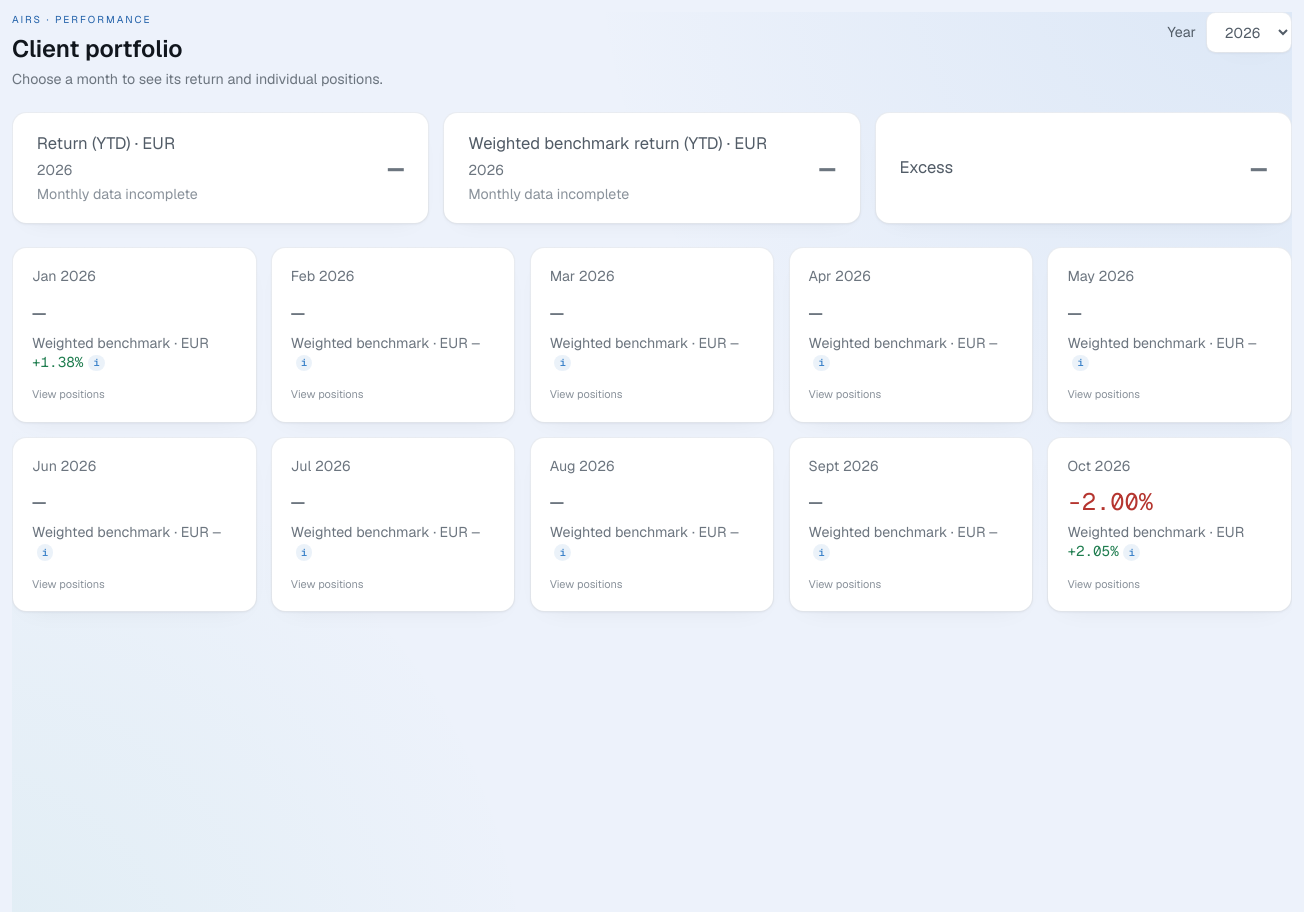
Test: AIRS monthly report › explains each tile using that month’s source prices without opening positions or fetching AIRS
The width and height of the screenshot is (1304, 912).
Click the 1st text "i": (96, 363) [88,355,105,371]
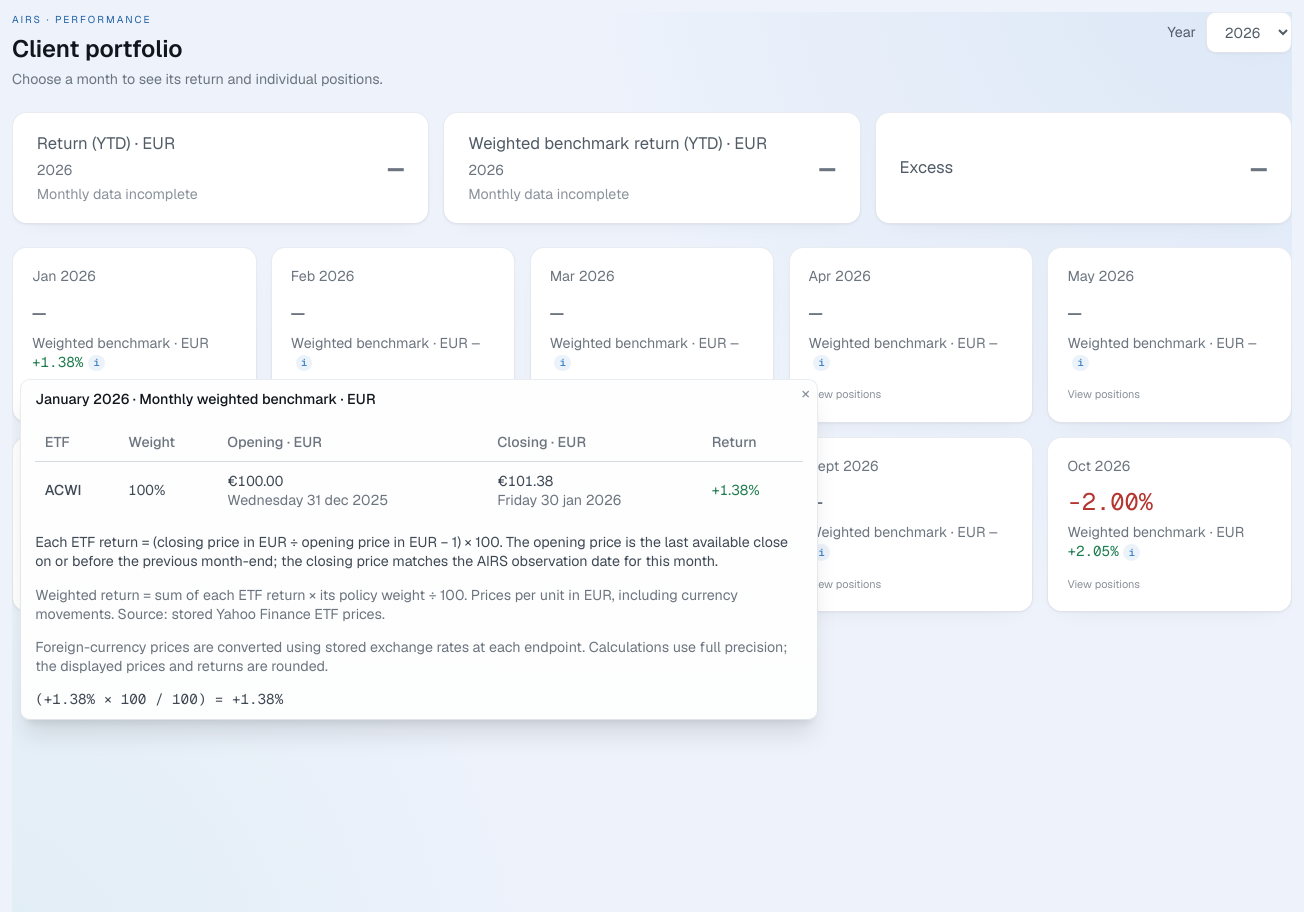
Result: the text "101.38" is shown at [497,472,553,490]
Result: the text "closing price in EUR ÷ opening price in EUR" is shown at [35,533,788,570]
Result: the text "(+1.38% × 100 / 100) = +1.38%" is shown at [35,690,283,708]
Click the 1st text "i": (96, 363) [88,355,105,371]
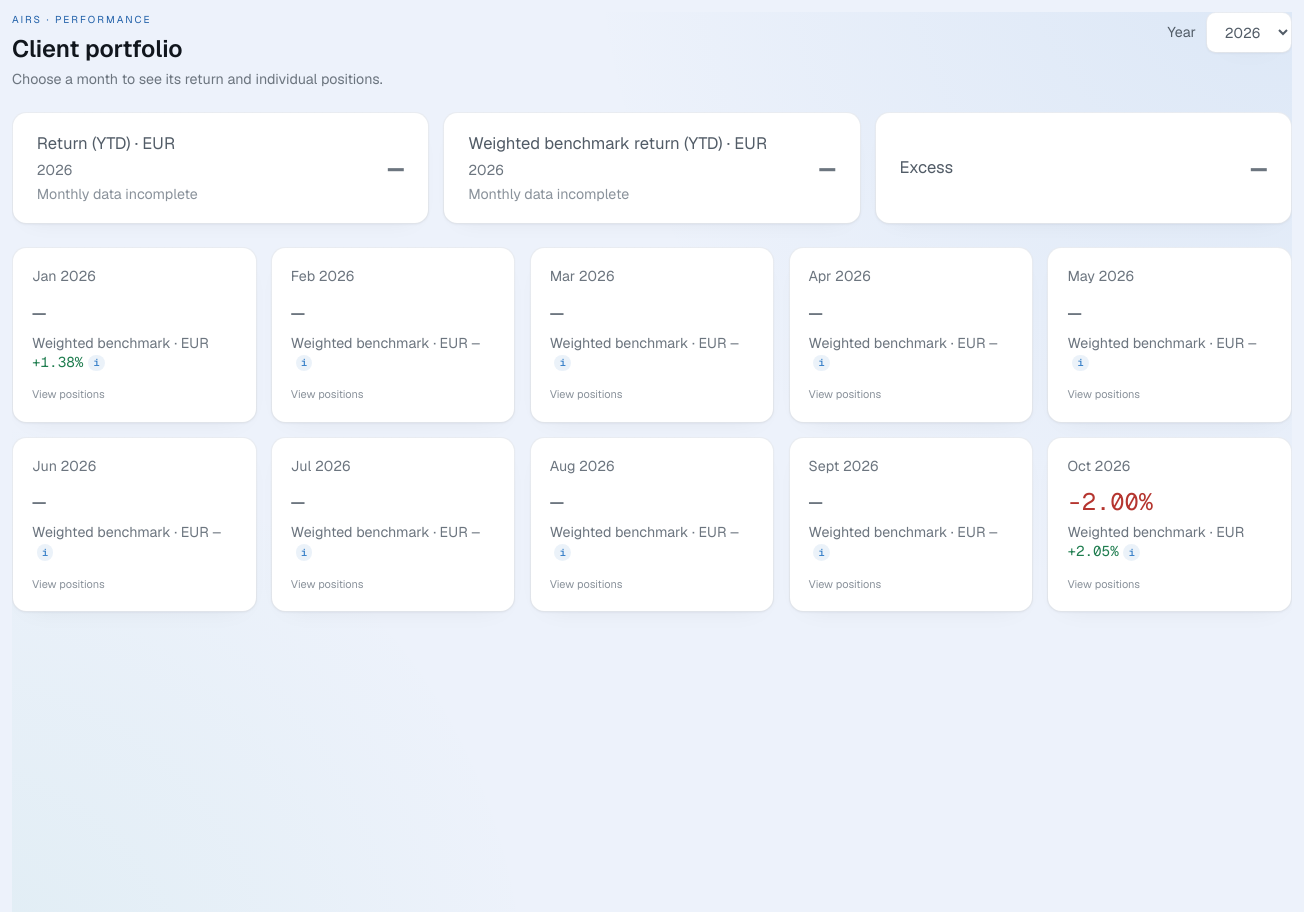
Click the 10th text "i": (1132, 553) [1124,544,1140,561]
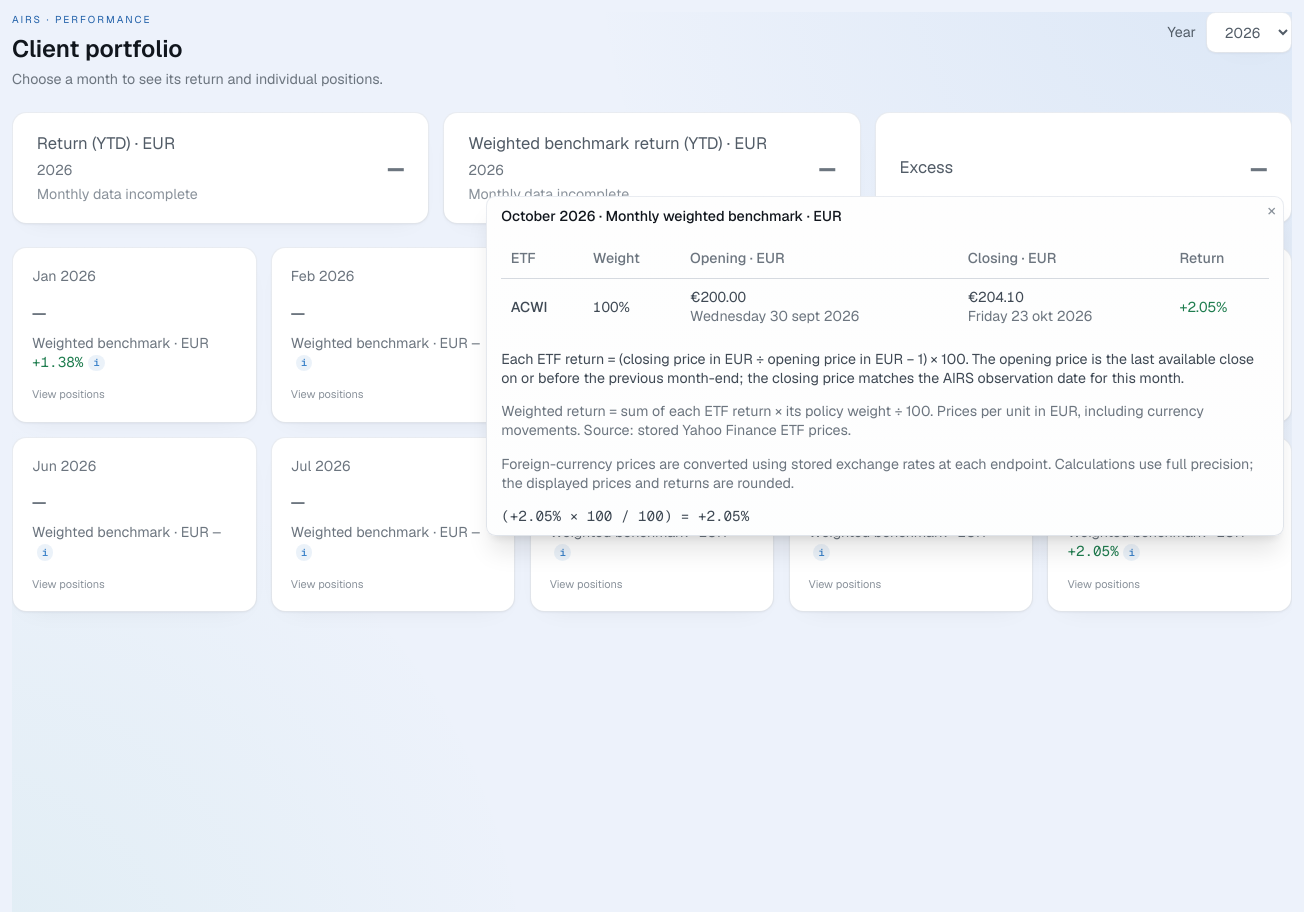
Result: the text "204.10" is shown at [968,288,1024,306]
Result: the text "(+2.05% × 100 / 100) = +2.05%" is shown at [501,507,749,525]
